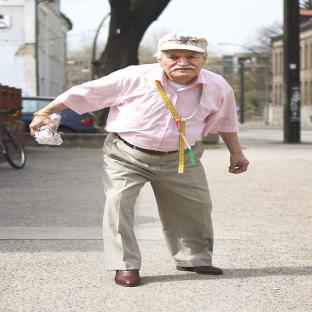Human: (30, 33, 249, 286)
